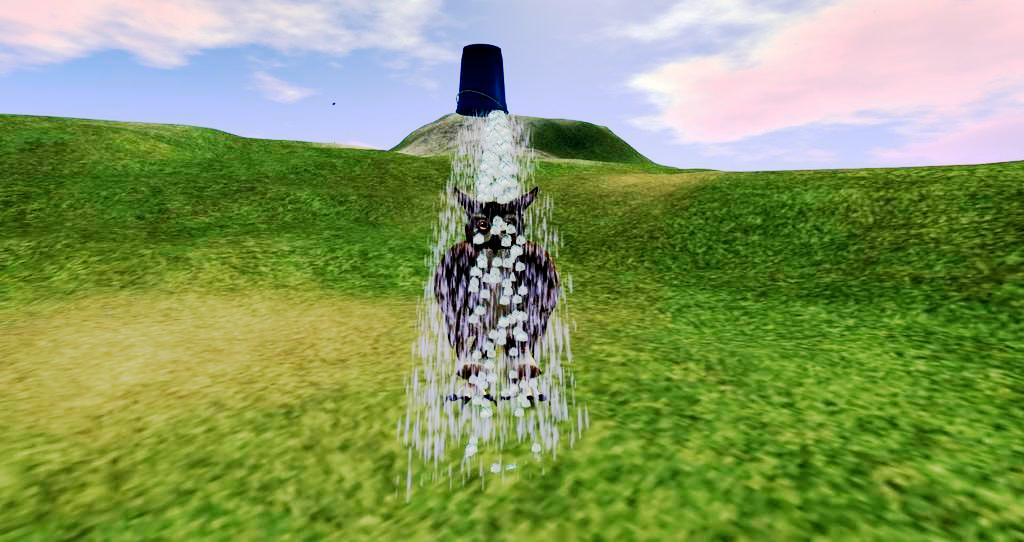Owl: (433, 187, 562, 415)
